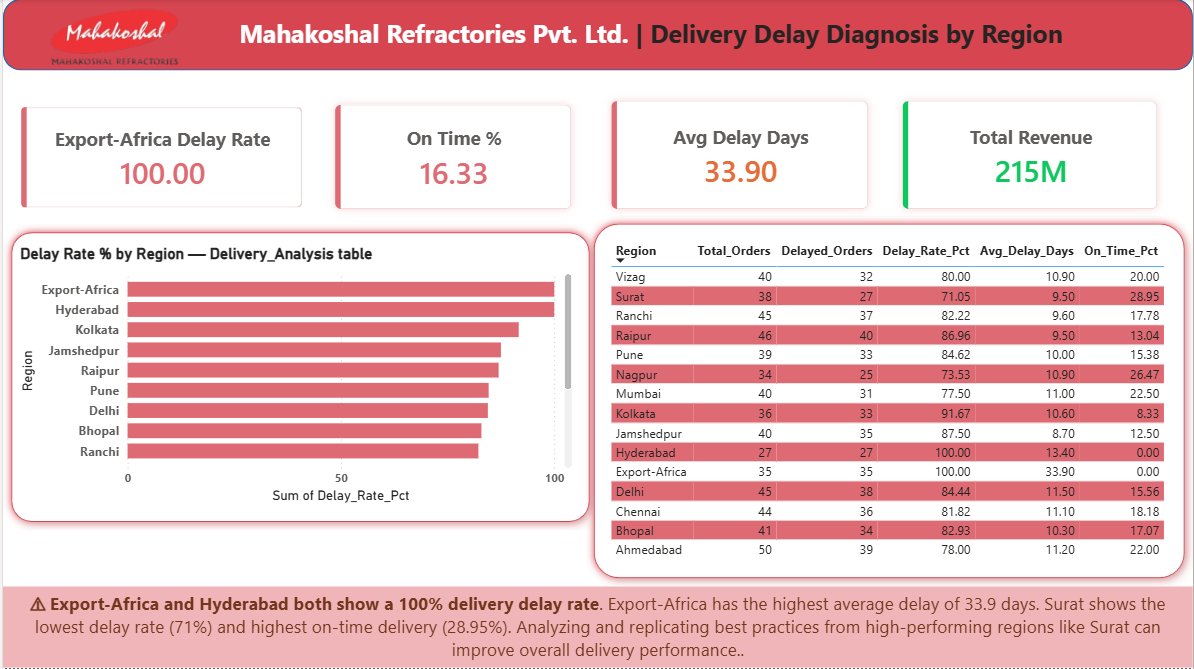

Layout of this report page (visuals, bound fields, positions):
{"tool":"powerbi","page":{"name":"Delivery Analysis","canvas":[1280,720],"ordinal":1},"visuals":[{"type":"shape","box":[0,0,1280.3,76.8],"z":0},{"type":"textbox","box":[134.5,13.7,1125.2,63.1],"z":1000},{"type":"image","box":[20.2,4,199,72.6],"z":2000},{"type":"cardVisual","fields":{"Data":["Avg(Delivery_Analysis.Delay_Rate_Pct)"]},"box":[2.7,99.5,336.2,142.6],"z":3000},{"type":"cardVisual","fields":{"Data":["Raw_Data.On Time %"]},"box":[329.5,86.1,310.7,168.1],"z":4000},{"type":"cardVisual","fields":{"Data":["Avg(Delivery_Analysis.Avg_Delay_Days)"]},"box":[626.7,82,332.2,172.1],"z":5000},{"type":"cardVisual","fields":{"Data":["Raw_Data.Total Revenue"]},"box":[940,82,330.8,172.1],"z":6000},{"type":"shape","box":[0,242.1,640.1,329.5],"z":7000},{"type":"shape","box":[626.7,232.7,653.6,399.4],"z":8000},{"type":"clusteredBarChart","title":"Delay Rate % by Region — Delivery_Analysis table","fields":{"Category":["Delivery_Analysis.Region"],"Y":["Sum(Delivery_Analysis.Delay_Rate_Pct)"]},"box":[13.4,263.6,603.8,283.8],"z":9000},{"type":"tableEx","fields":{"Values":["Delivery_Analysis.Region","Delivery_Analysis.Total_Orders","Delivery_Analysis.Delayed_Orders","Delivery_Analysis.Delay_Rate_Pct","Delivery_Analysis.Avg_Delay_Days","Delivery_Analysis.On_Time_Pct"]},"box":[648.2,254.2,610.6,356.4],"z":10000},{"type":"textbox","box":[0,632.1,1280.3,87.4],"z":11000}]}

Visuals, with their boxes in screenshot pixels (x1, y1, x2, y2), scaled from the page's 1280x720 canvas onto the 1194x669 screenshot:
shape: <bbox>0, 0, 1193, 71</bbox>
textbox: <bbox>125, 13, 1175, 71</bbox>
image: <bbox>19, 4, 204, 71</bbox>
cardVisual - Avg(Delivery_Analysis.Delay_Rate_Pct): <bbox>3, 92, 316, 225</bbox>
cardVisual - Raw_Data.On Time %: <bbox>307, 80, 597, 236</bbox>
cardVisual - Avg(Delivery_Analysis.Avg_Delay_Days): <bbox>585, 76, 894, 236</bbox>
cardVisual - Raw_Data.Total Revenue: <bbox>877, 76, 1185, 236</bbox>
shape: <bbox>0, 225, 597, 531</bbox>
shape: <bbox>585, 216, 1193, 587</bbox>
"Delay Rate % by Region — Delivery_Analysis table" clusteredBarChart: <bbox>12, 245, 576, 509</bbox>
tableEx - Delivery_Analysis.Region x Delivery_Analysis.Total_Orders: <bbox>605, 236, 1174, 567</bbox>
textbox: <bbox>0, 587, 1193, 668</bbox>
